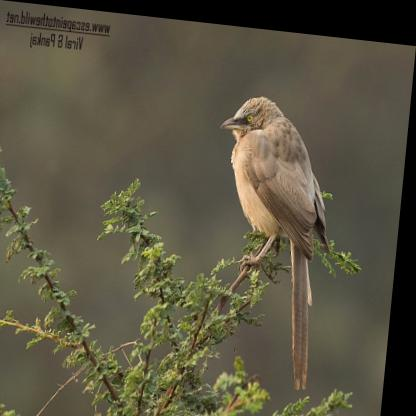Burung: (204, 86, 346, 384)
